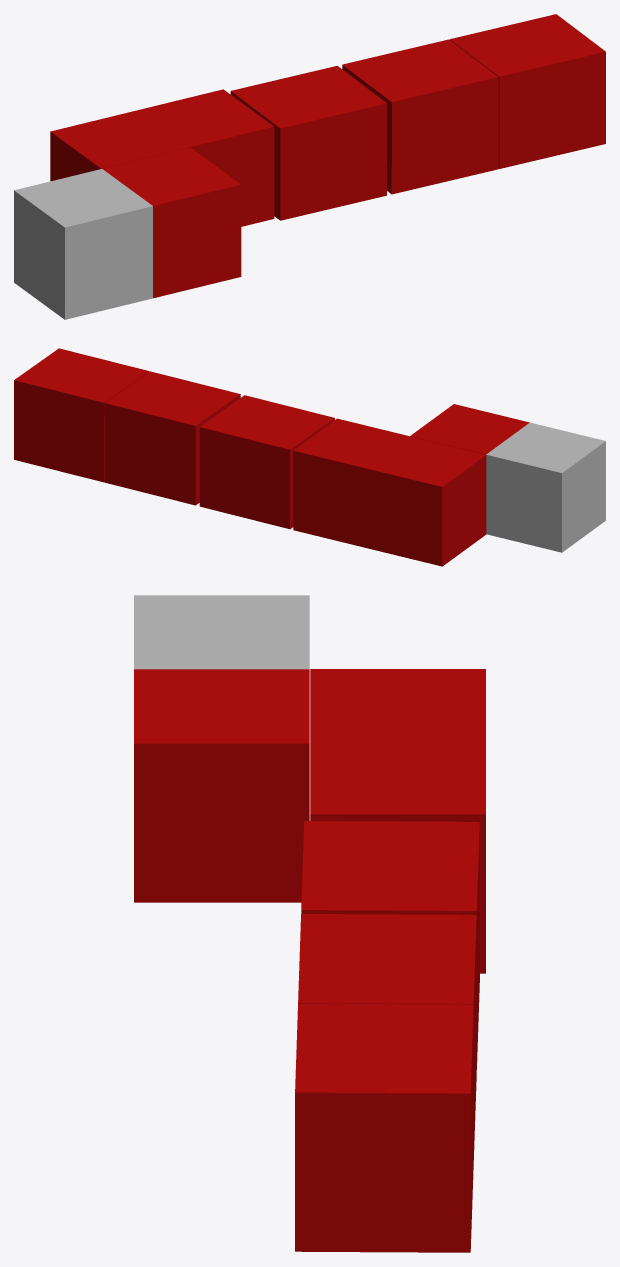
File: lab_editor_2.glb
3 views of the same model, one above another, from view 1: azimuth 30°, elevation 25°; view 2: azimuth 150°, elevation 25°; view 3: azimuth 270°, elevation 25° (orthographic). The views are drawn at different scales.
Parts seen in each view (by area): view 1: cube (Mesh Instance) (×6), cube; view 2: cube (Mesh Instance) (×6), cube; view 3: cube (Mesh Instance) (×6), cube.
Part boxes in pixels (left/top/right/bottom): cube (Mesh Instance) (×6): left=14, top=14, right=605, bottom=319; cube: left=230, top=65, right=386, bottom=220; cube (Mesh Instance) (×6): left=14, top=348, right=605, bottom=566; cube: left=199, top=395, right=334, bottom=529; cube (Mesh Instance) (×6): left=134, top=595, right=485, bottom=1252; cube: left=301, top=821, right=479, bottom=1069.
Size of what is drawn, in the model's own units: 6.68 by 1.02 by 2.
